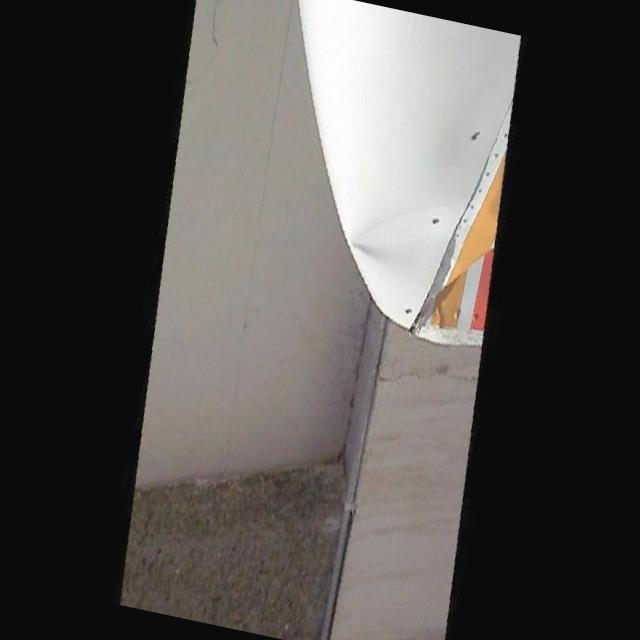dent: (326, 190, 536, 366)
